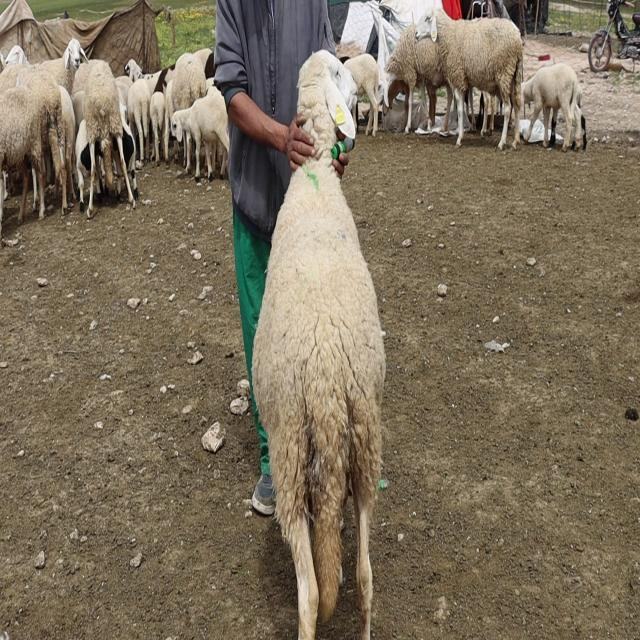Score_3: (252, 50, 385, 639)
